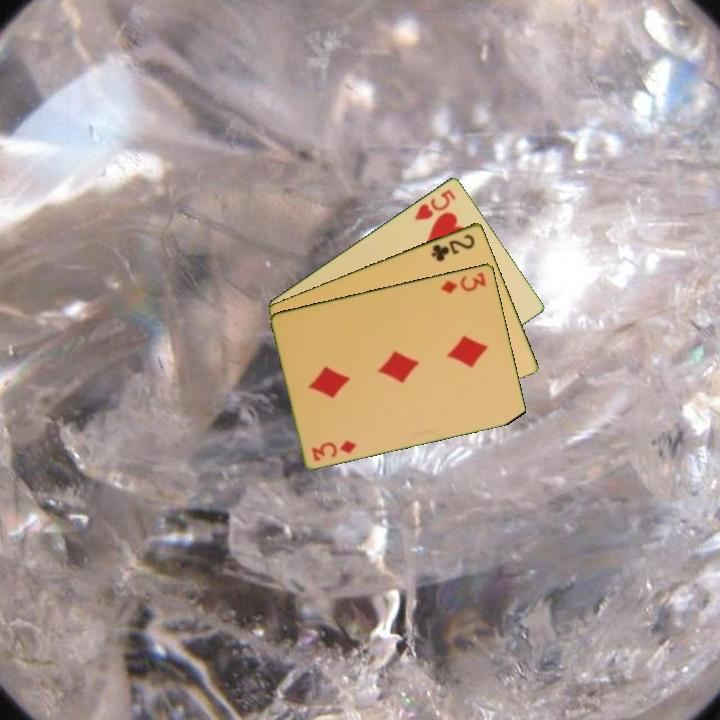2c: (428, 230, 478, 264)
3d: (437, 268, 489, 296), (308, 436, 359, 464)
5h: (411, 186, 459, 223)
